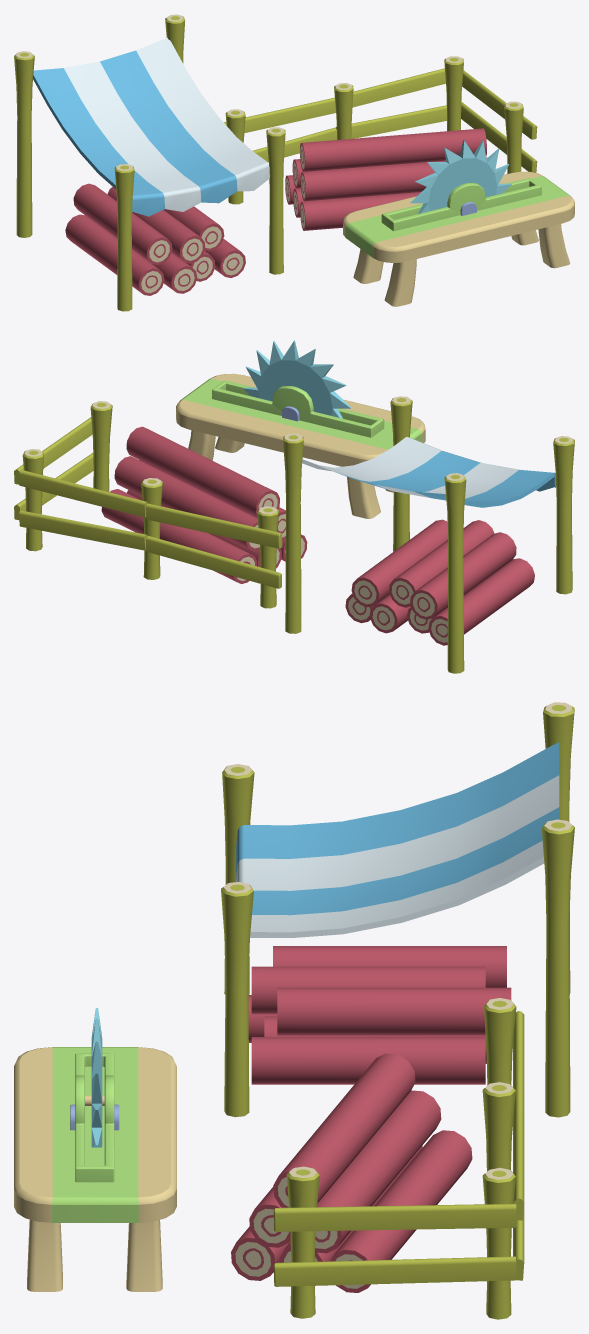
Rendered from TreeHouse 1.fbx.
The picture shows the model from 3 angles, top to bottom: view 1: azimuth 30°, elevation 25°; view 2: azimuth 150°, elevation 25°; view 3: azimuth 270°, elevation 25°; orthographic projection. The views are drawn at different scales.
Parts seen in each view (by area): view 1: Cube.016, Cube.025, Circle.006; view 2: Cube.016, Cube.025, Circle.006; view 3: Cube.016, Cube.025, Circle.006.
Boxes of the visible parts, bbox=[...] form: Cube.016: bbox=[14, 14, 537, 311]; Cube.025: bbox=[343, 171, 574, 306]; Circle.006: bbox=[410, 140, 511, 213]; Cube.016: bbox=[14, 396, 574, 673]; Cube.025: bbox=[176, 373, 425, 518]; Circle.006: bbox=[242, 340, 351, 418]; Cube.016: bbox=[221, 702, 574, 1319]; Cube.025: bbox=[14, 1047, 176, 1291]; Circle.006: bbox=[91, 1008, 102, 1147].
Bounding box in the file's own units: 654 × 260 × 460.
